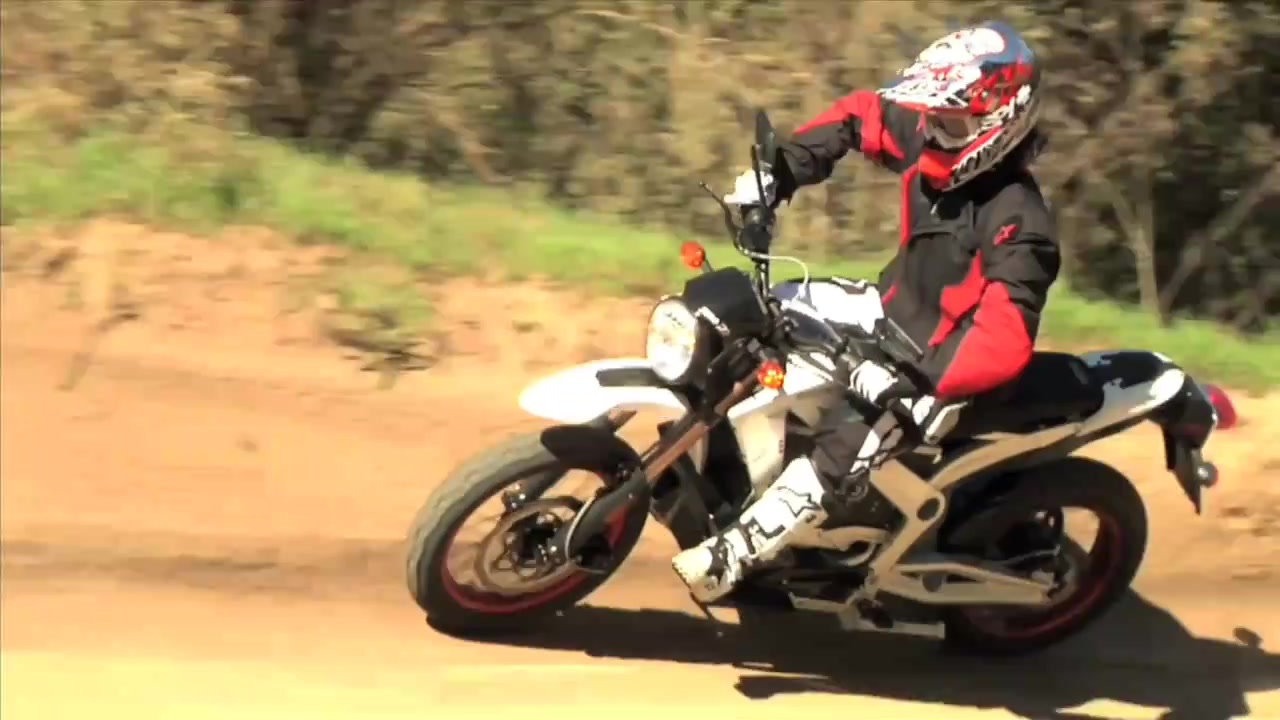motorbike: (401, 109, 1237, 654)
